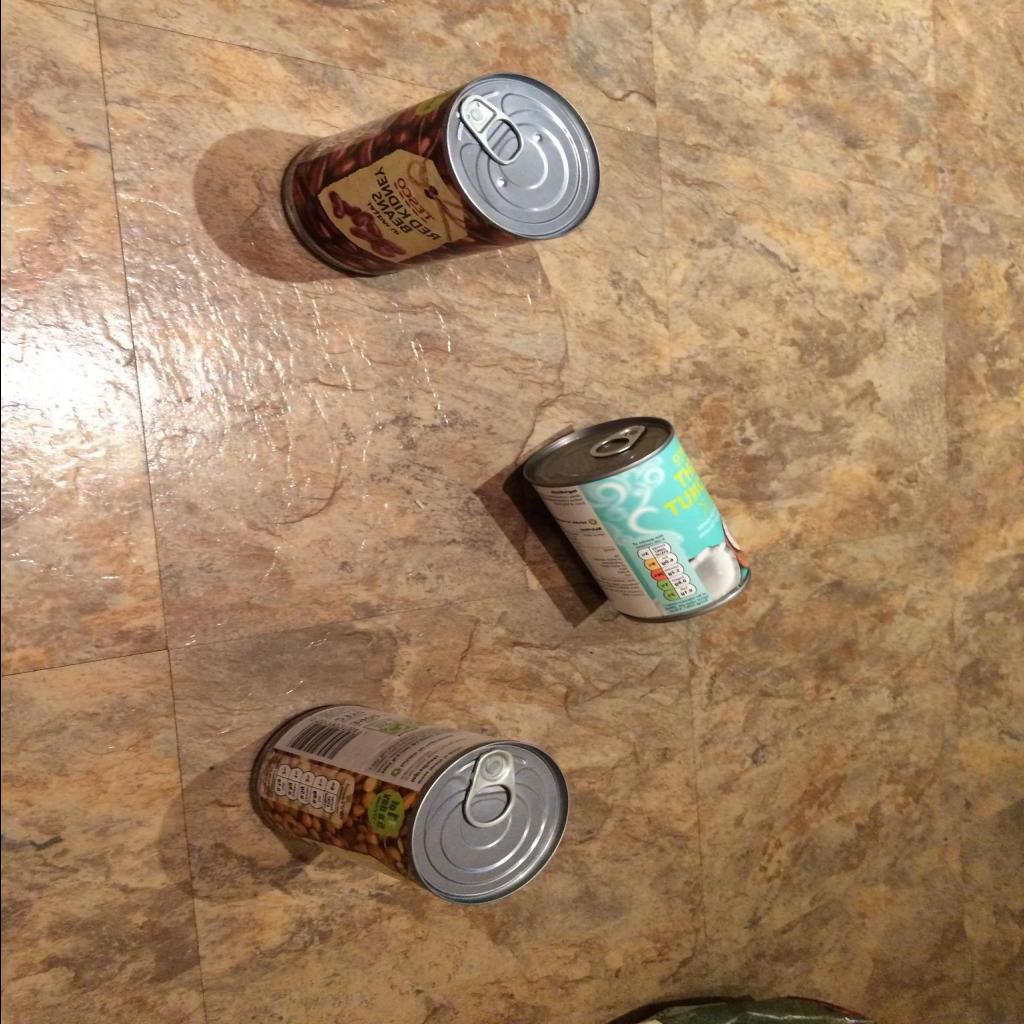Pop tab: (458, 95, 524, 165), (462, 750, 516, 828), (588, 426, 644, 458)
